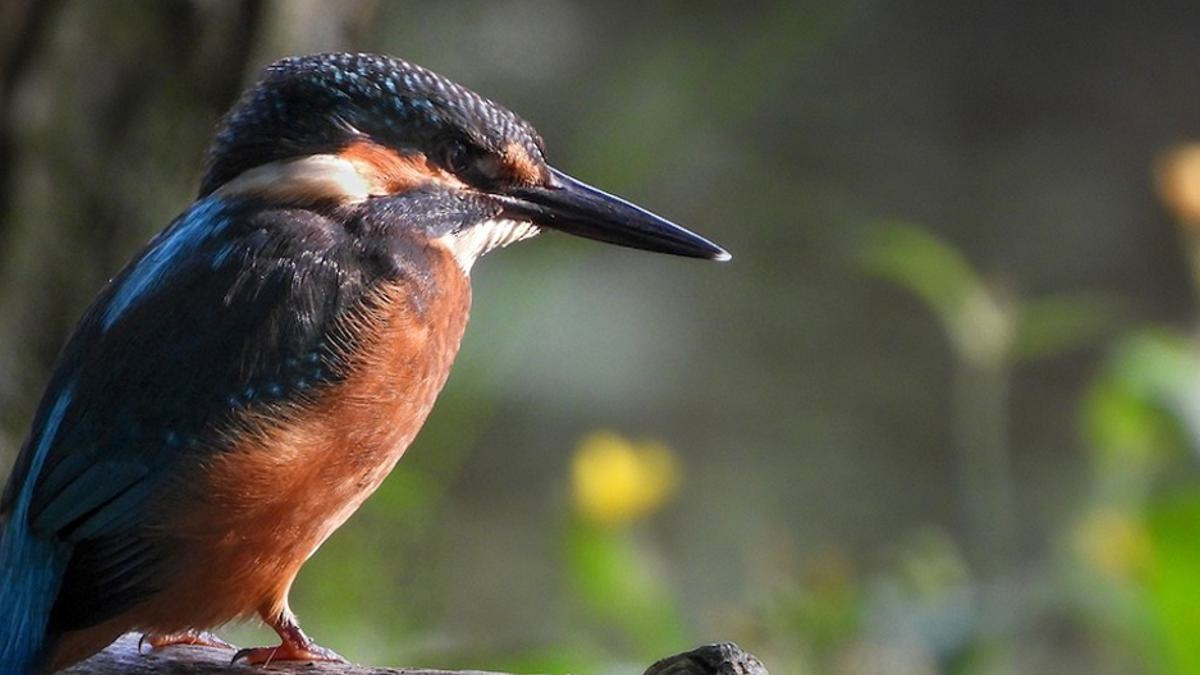kingfisher: (1, 56, 751, 675)
